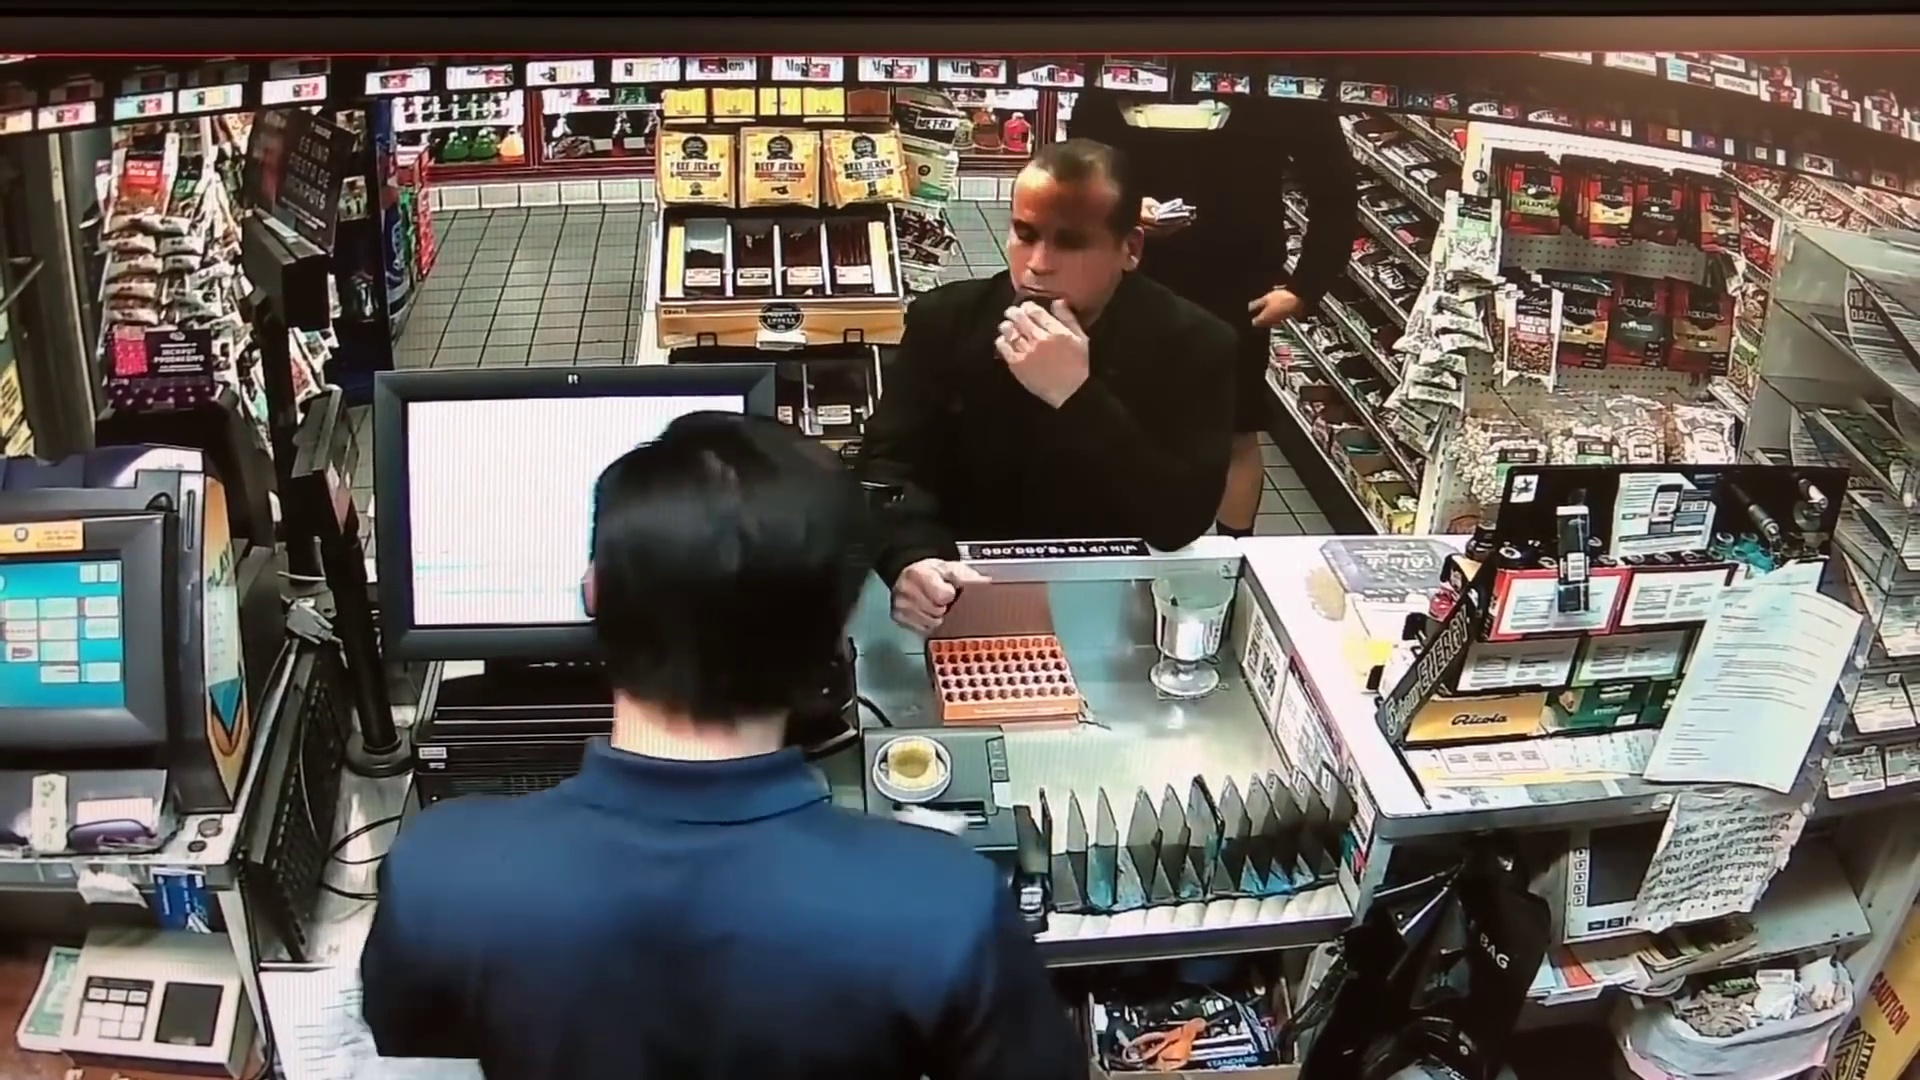face: (1006, 194, 1106, 314)
